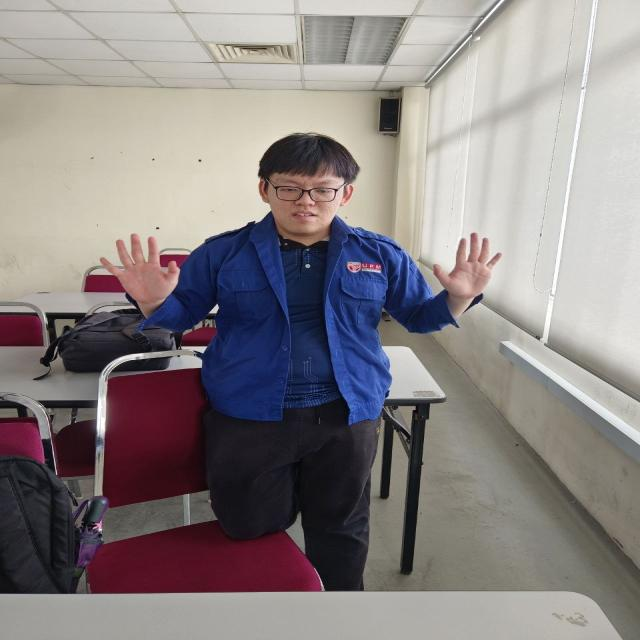person_with_labcoat: (117, 133, 500, 590)
